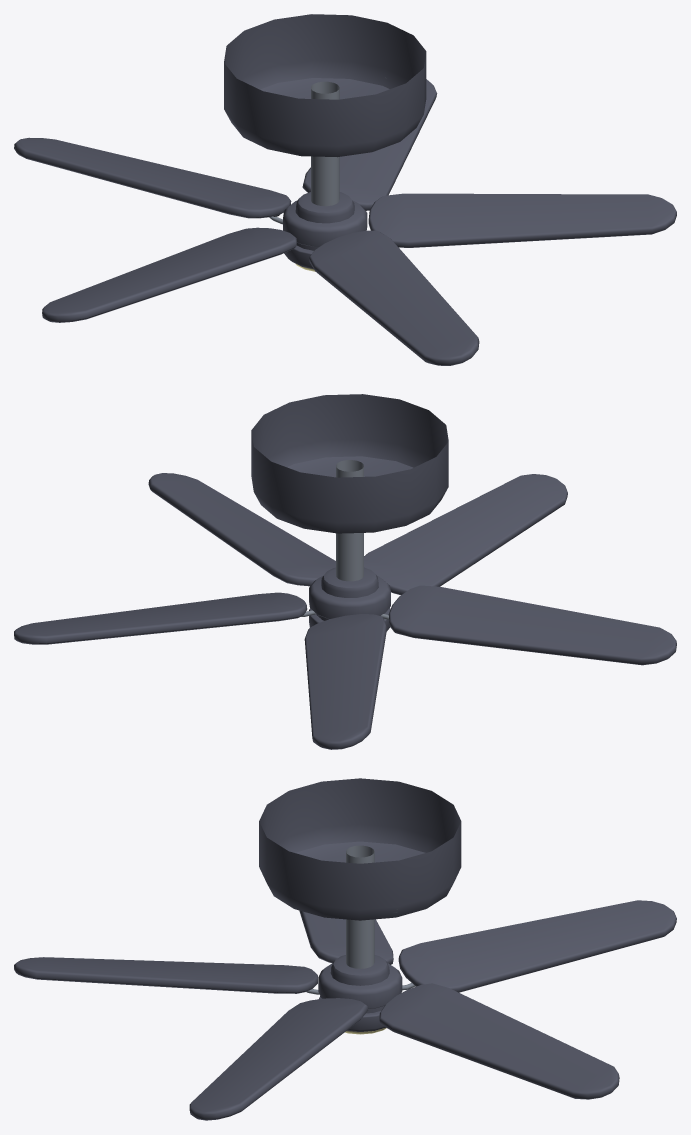
The model's file is Ventilator.fbx.
The picture shows the model from 3 angles, top to bottom: view 1: azimuth 30°, elevation 25°; view 2: azimuth 150°, elevation 25°; view 3: azimuth 270°, elevation 25°; orthographic projection. The views are drawn at different scales.
Visible parts, largest first — view 1: Wings, Base_Ventilator; view 2: Wings, Base_Ventilator; view 3: Wings, Base_Ventilator.
Boxes of the visible parts, left/top/right/bottom form: Wings: left=14, top=79, right=676, bottom=365; Base_Ventilator: left=224, top=14, right=426, bottom=206; Wings: left=14, top=473, right=676, bottom=749; Base_Ventilator: left=251, top=394, right=448, bottom=581; Wings: left=14, top=900, right=676, bottom=1120; Base_Ventilator: left=259, top=778, right=461, bottom=968.
Size of the model in its own units: 56.02 by 18.73 by 55.91.
Materials: 1 (1 with a texture image).
